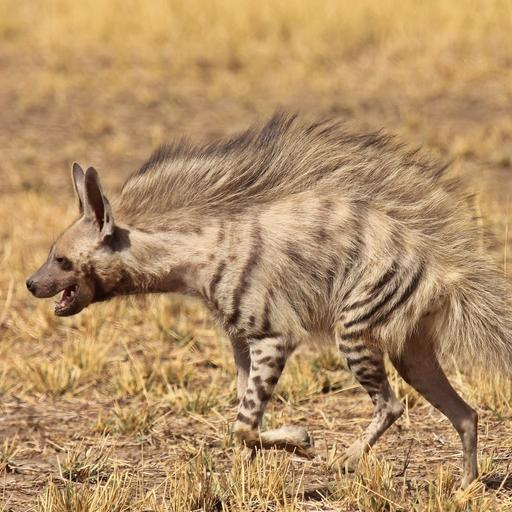Hyena: (20, 105, 512, 499)
